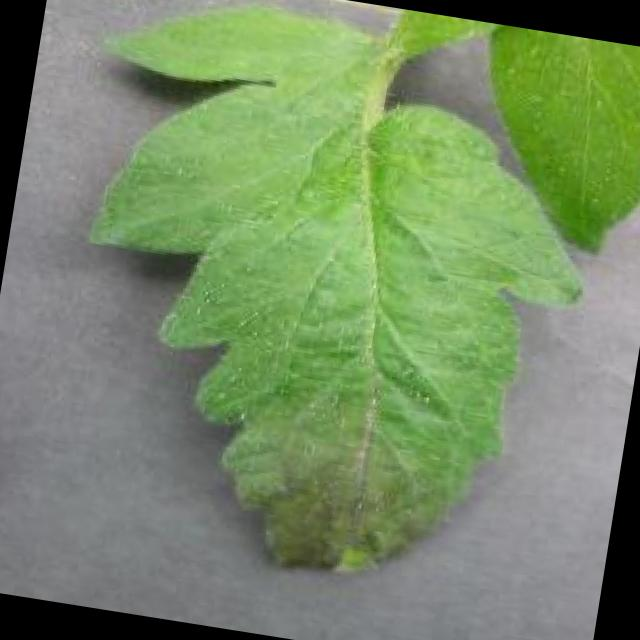Tomato_Late_Blight: (223, 386, 448, 588)
